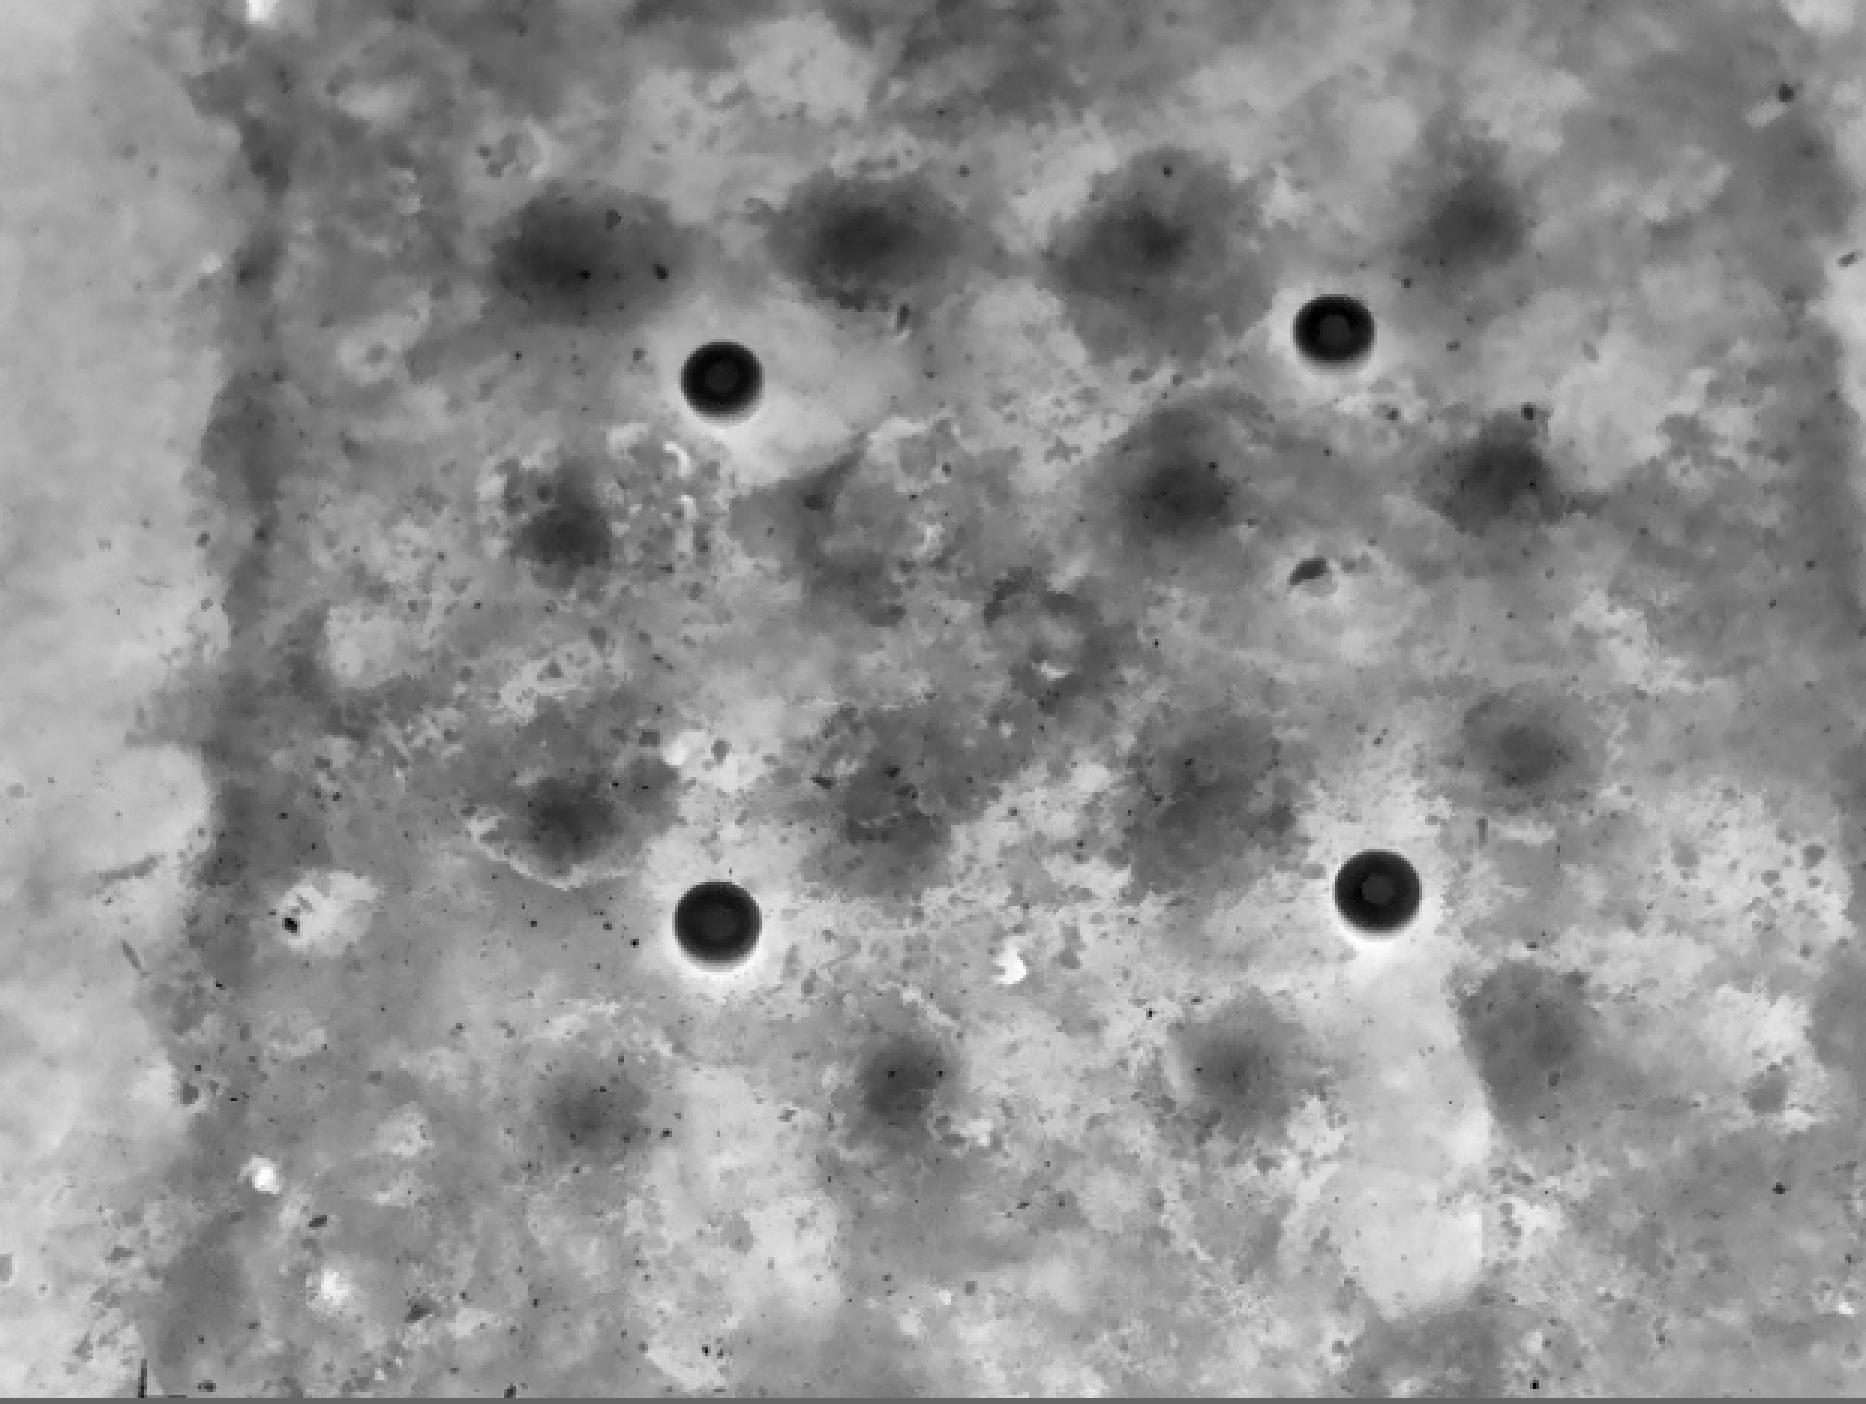mines-gjV8: (662, 875, 779, 960), (676, 335, 773, 416), (1303, 295, 1379, 372), (1342, 848, 1423, 917)
